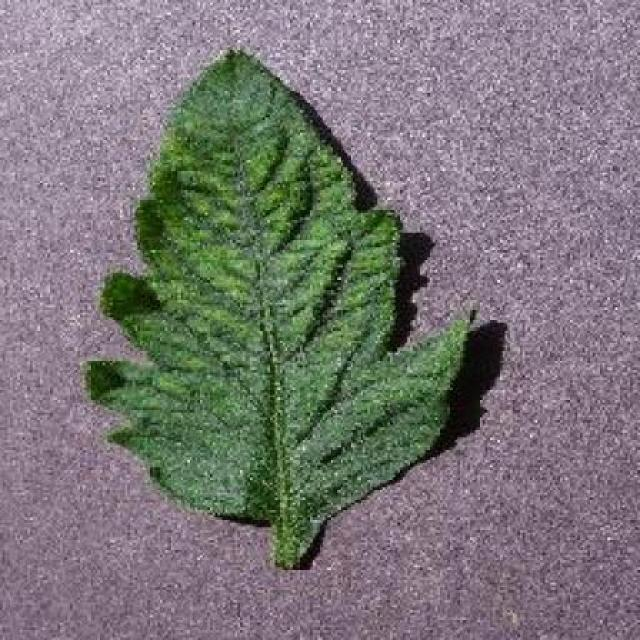Mosaic Virus: (78, 49, 476, 530)
